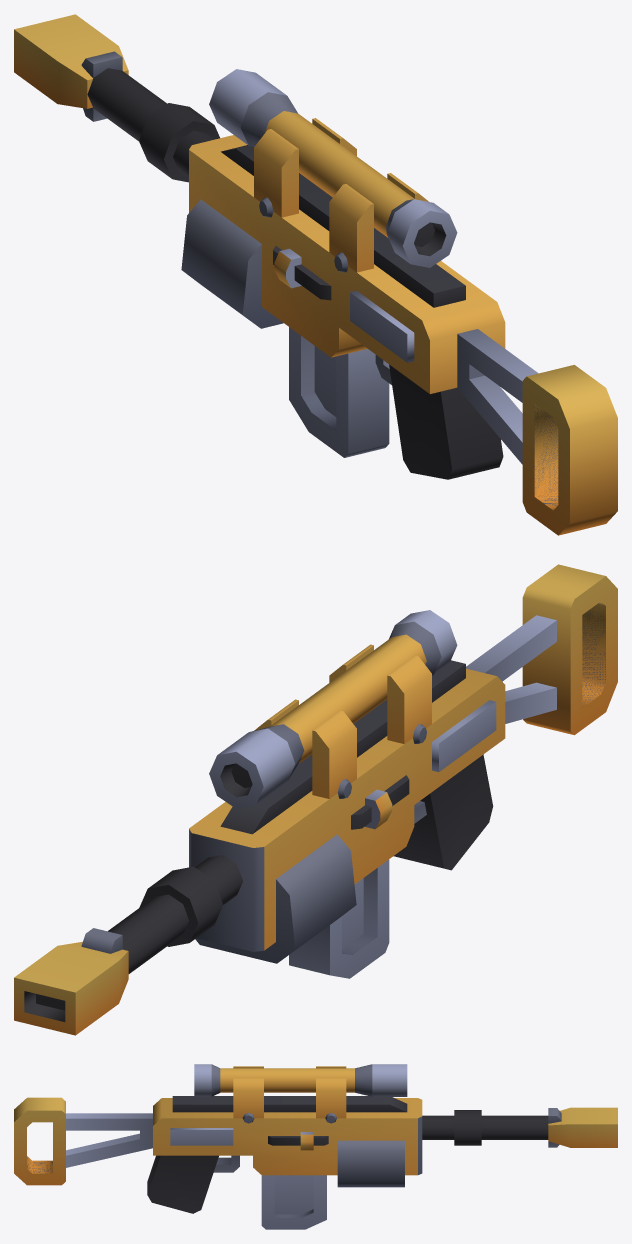
The model's file is blaster-e.glb.
3 views of the same model, one above another, from view 1: azimuth 30°, elevation 25°; view 2: azimuth 150°, elevation 25°; view 3: azimuth 270°, elevation 25° (orthographic). The views are drawn at different scales.
Visible parts, largest first — view 1: blaster-e, scope, magazine; view 2: blaster-e, scope, magazine; view 3: blaster-e, scope, magazine.
Boxes of the visible parts, x1=… form: blaster-e: x1=14, y1=14, x2=617, y2=535; scope: x1=209, y1=69, x2=457, y2=272; magazine: x1=289, y1=327, x2=389, y2=457; blaster-e: x1=14, y1=564, x2=617, y2=1035; scope: x1=209, y1=610, x2=457, y2=808; magazine: x1=289, y1=859, x2=389, y2=978; blaster-e: x1=14, y1=1096, x2=617, y2=1213; scope: x1=194, y1=1064, x2=407, y2=1123; magazine: x1=261, y1=1175, x2=326, y2=1229.
Size of the model in its own units: 0.1665 by 0.405 by 1.39.
